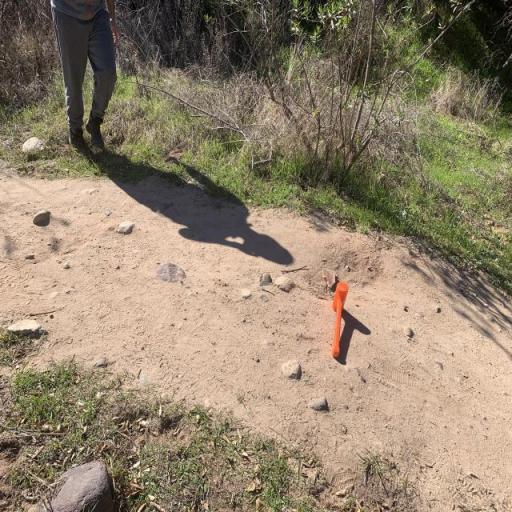mallet: (332, 280, 349, 359)
